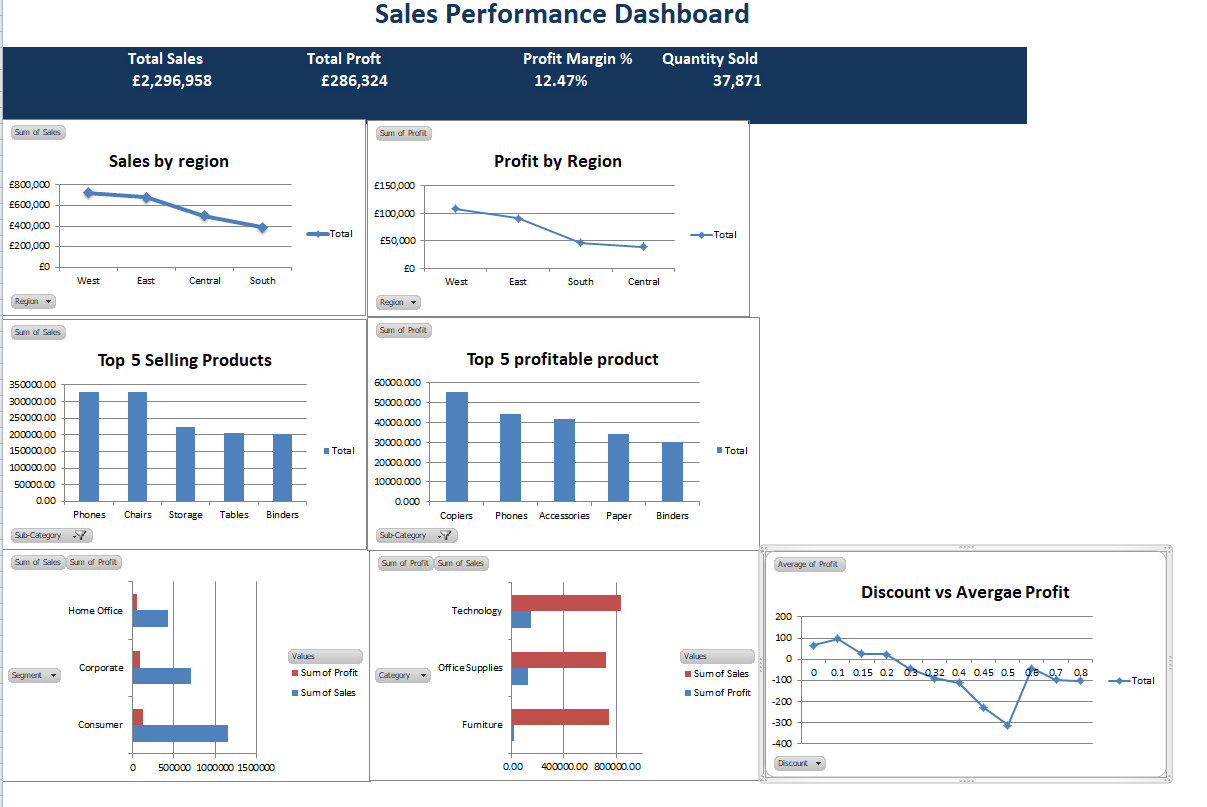

The page's visual inventory and layout, read from the dashboard file:
{"tool":"powerbi","page":{"name":"Dashboard ","canvas":[1280,9999],"ordinal":0},"visuals":[{"type":"textbox","box":[273.9,18.2,564.8,54.5],"z":0},{"type":"cardVisual","title":"total sales","fields":{"Data":["SalesData.Measure TotalSales"]},"box":[118.2,101.1,165.9,156.8],"z":1000},{"type":"cardVisual","fields":{"Data":["SalesData.Measure Total Profit"]},"box":[284.1,101.1,184.1,156.8],"z":2000},{"type":"cardVisual","fields":{"Data":["SalesData.Measure Total Quantity"]},"box":[639.8,101.1,172.7,156.8],"z":3000},{"type":"cardVisual","fields":{"Data":["SalesData.Measure Profit Margin"]},"box":[468.2,101.1,176.1,156.8],"z":4000},{"type":"clusteredBarChart","title":"Sales by Region","fields":{"Y":["SalesData.Measure TotalSales"],"Category":["SalesData.Region"]},"box":[0,312.5,460.2,277.3],"z":5000},{"type":"clusteredBarChart","title":"Profit by Region","fields":{"Y":["SalesData.Measure Total Profit"],"Category":["SalesData.Region"]},"box":[468.2,320.5,436.4,287.5],"z":6000},{"type":"clusteredBarChart","title":"Top 5 Selling Products","fields":{"Category":["SalesData.Sub-Category"],"Y":["SalesData.Total Sales"]},"box":[0,608,468.2,283],"z":7000},{"type":"clusteredBarChart","title":"Top 5 Most Profitable Products ","fields":{"Category":["SalesData.Sub-Category"],"Y":["SalesData.Total Profit"]},"box":[468.2,608,436.4,283],"z":8000},{"type":"clusteredBarChart","title":"Profit by Customer Segment","fields":{"Category":["SalesData.Segment"],"Y":["SalesData.Total Profit"]},"box":[0,898.9,489.8,281.8],"z":8001},{"type":"clusteredBarChart","title":"Profit by Category","fields":{"Category":["SalesData.Category"],"Y":["SalesData.Total Profit"]},"box":[489.8,898.9,414.8,290.9],"z":8002},{"type":"lineChart","title":"Discount vs Average Profit ","fields":{"Category":["SalesData.Discount"],"Y":["SalesData.Average Profit"]},"box":[0,1189.8,489.8,263.6],"z":8003},{"type":"textbox","box":[0,1463.6,546.6,264.8],"z":8004}]}

Visuals, with their boxes in screenshot pixels (x1, y1, x2, y2):
textbox: [350,0,396,3]
"total sales" cardVisual: [337,5,350,18]
cardVisual - SalesData.Measure Total Profit: [350,5,366,18]
cardVisual - SalesData.Measure Total Quantity: [380,5,394,18]
cardVisual - SalesData.Measure Profit Margin: [366,5,380,18]
"Sales by Region" clusteredBarChart: [327,23,365,46]
"Profit by Region" clusteredBarChart: [366,23,402,47]
"Top 5 Selling Products" clusteredBarChart: [327,47,366,70]
"Top 5 Most Profitable Products " clusteredBarChart: [366,47,402,70]
"Profit by Customer Segment" clusteredBarChart: [327,71,367,94]
"Profit by Category" clusteredBarChart: [367,71,402,95]
"Discount vs Average Profit " lineChart: [327,95,367,117]
textbox: [327,118,372,140]
